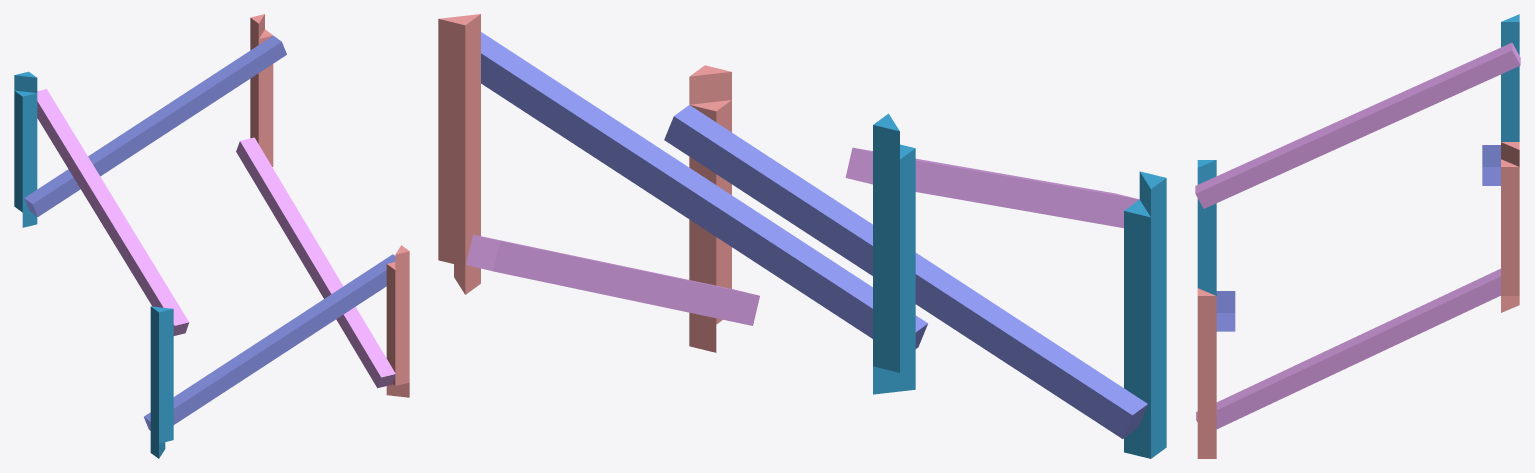
File: ModuleB_color.obj
3 views of the same model, side by side, from view 1: azimuth 30°, elevation 25°; view 2: azimuth 150°, elevation 25°; view 3: azimuth 270°, elevation 25° (orthographic). The views are drawn at different scales.
Parts seen in each view (by area): view 1: extra blue, extra purple, extra white, extra red; view 2: extra blue, extra white, extra purple, extra red; view 3: extra purple, extra red, extra white, extra blue.
Part boxes in pixels (x1,y1,x2,y2): extra blue: [24, 35, 395, 430]; extra purple: [37, 89, 395, 388]; extra white: [14, 71, 173, 458]; extra red: [250, 14, 409, 397]; extra blue: [481, 32, 1147, 438]; extra white: [873, 113, 1166, 458]; extra purple: [466, 147, 1139, 325]; extra red: [438, 14, 731, 352]; extra purple: [1195, 42, 1520, 429]; extra red: [1197, 142, 1519, 458]; extra white: [1197, 14, 1519, 295]; extra blue: [1216, 145, 1500, 331].
Bounding box in the file's own units: 0.6127 × 0.635 × 0.606.
